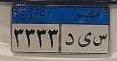3: (36, 28, 47, 50), (25, 27, 35, 50), (13, 27, 23, 49), (48, 28, 58, 49)
daal: (64, 32, 75, 47)
seen: (93, 29, 107, 49)
yaa: (77, 31, 92, 49)
